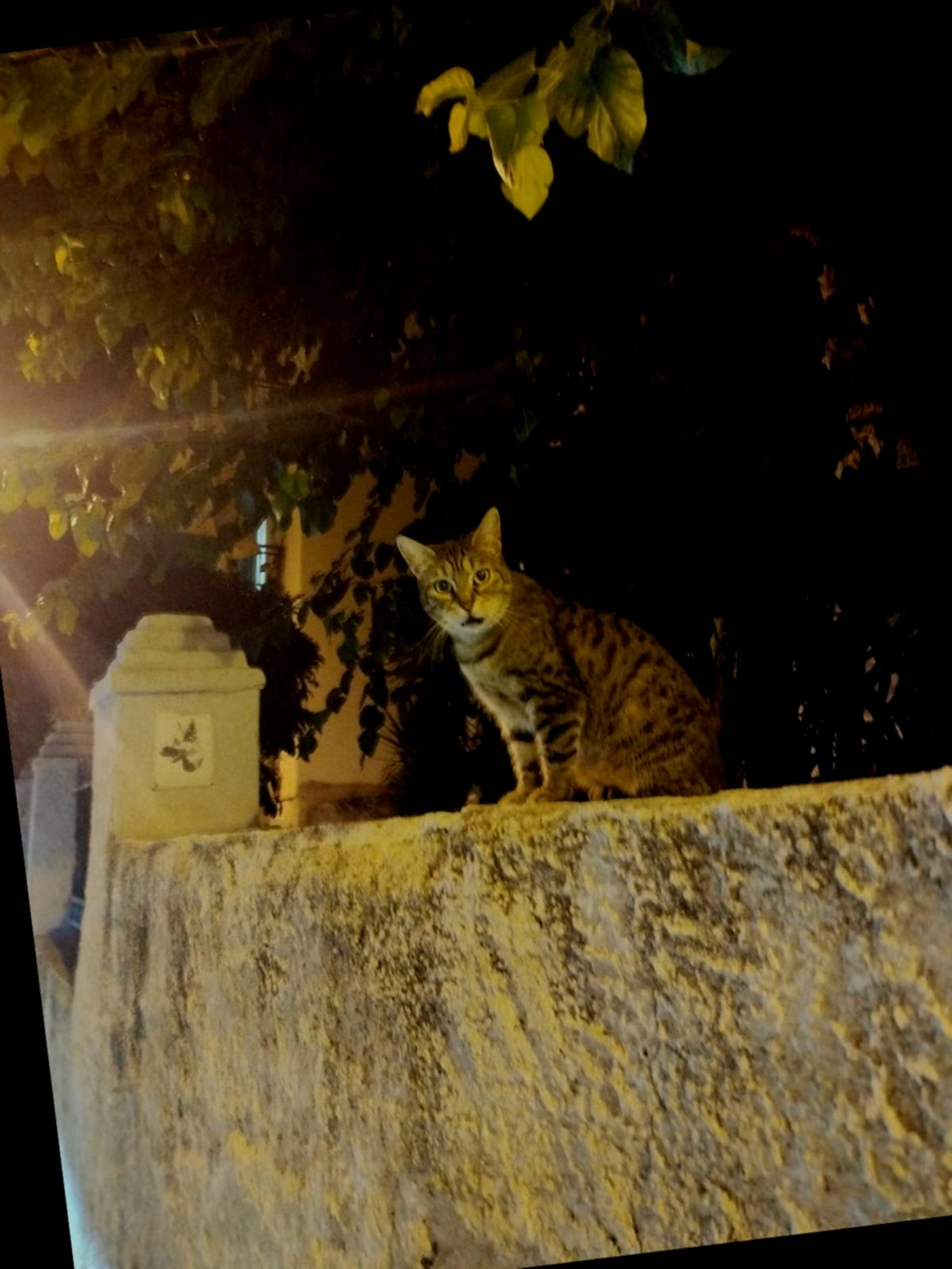macka: (392, 479, 728, 825)
